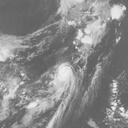cyclone: (49, 61, 81, 98)
